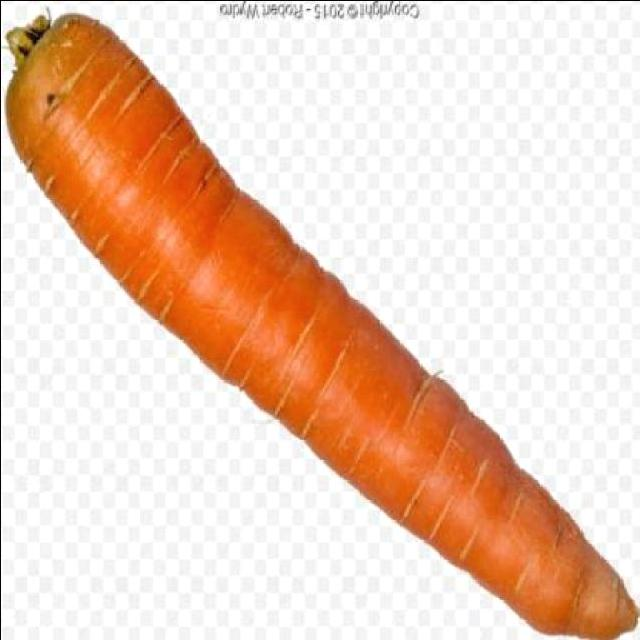carrot: (2, 12, 640, 640)
